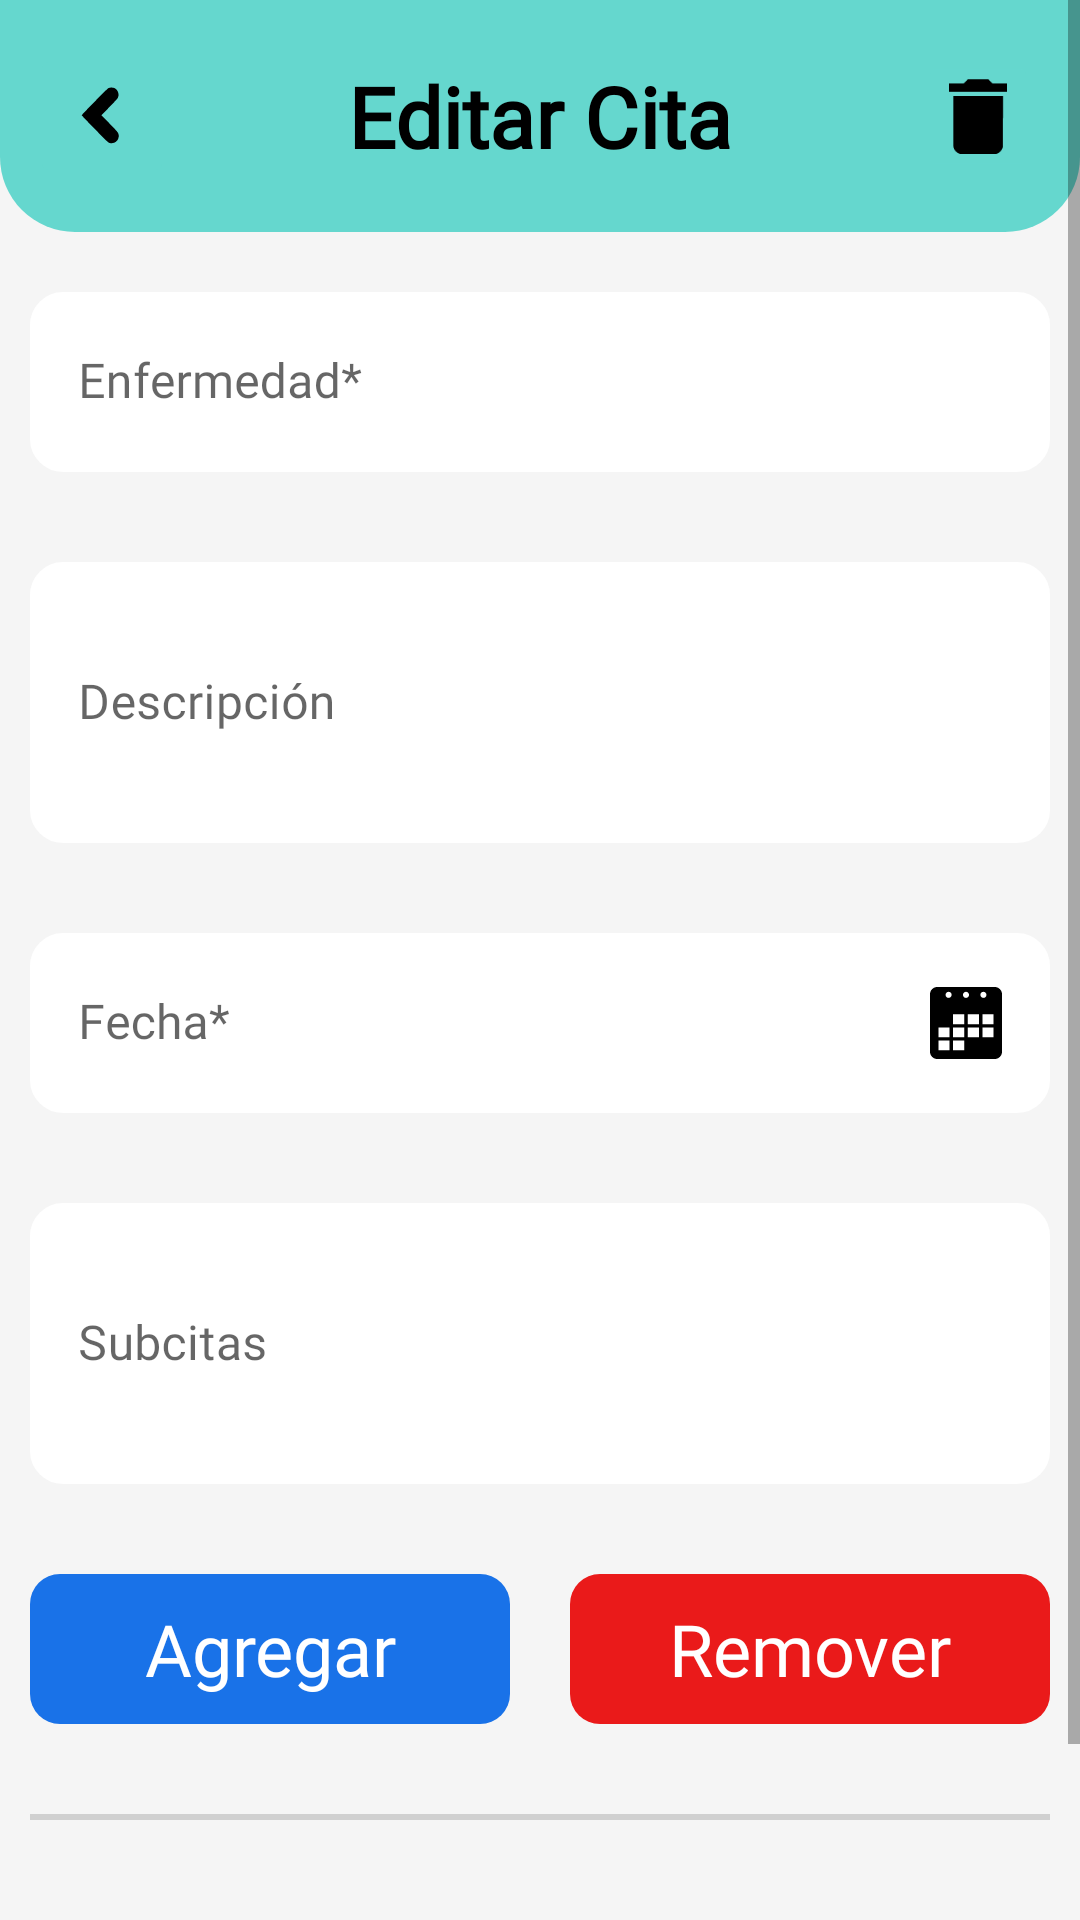

Where icons sit on this 1080px×1920px app screen, as [left=x1, top=y1, right=x2, bottom=y2]:
flecha atras: [left=81, top=87, right=119, bottom=144]
